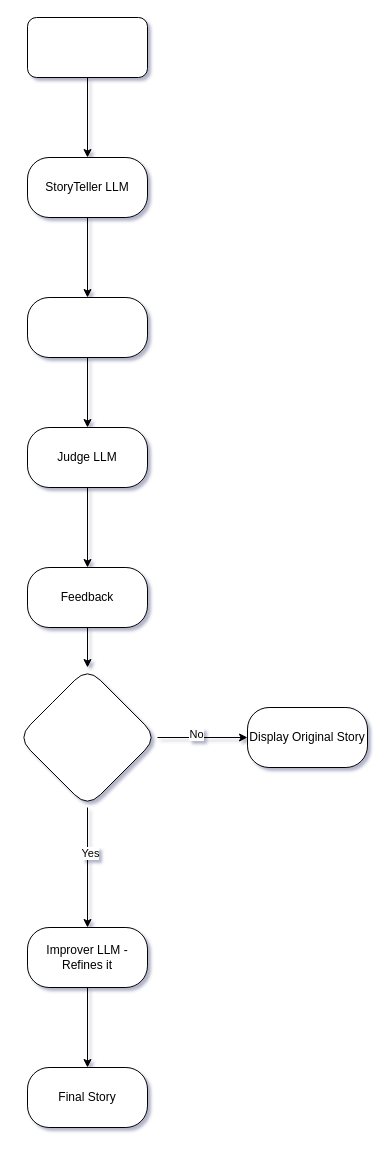
Some shapes in this 391 by 1151 pixel diagram are drawn without their labels. The centre of each missing label's shape, as x and y in pixels:
Does the story need work: the point at 87,737
Generated Story: the point at 87,327
User Input: the point at 87,47
